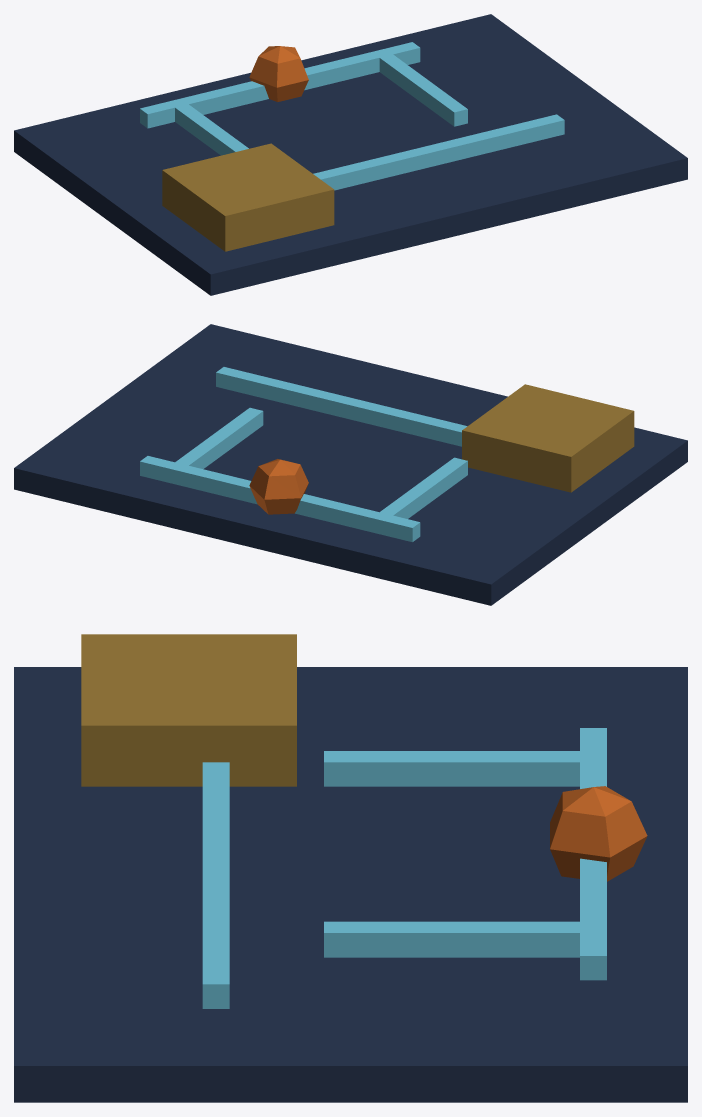
File: mod-pattern.lod.glb
The picture shows the model from 3 angles, top to bottom: view 1: azimuth 30°, elevation 25°; view 2: azimuth 150°, elevation 25°; view 3: azimuth 270°, elevation 25°; orthographic projection. The views are drawn at different scales.
Visible parts, largest first — view 1: m; view 2: m; view 3: m.
Part boxes in pixels (x1,y1,x2,y2): m: (14,14,687,295); m: (14,324,687,605); m: (14,634,687,1102).
Bounding box in the file's own units: 0.07 × 0.0095 × 0.05.
